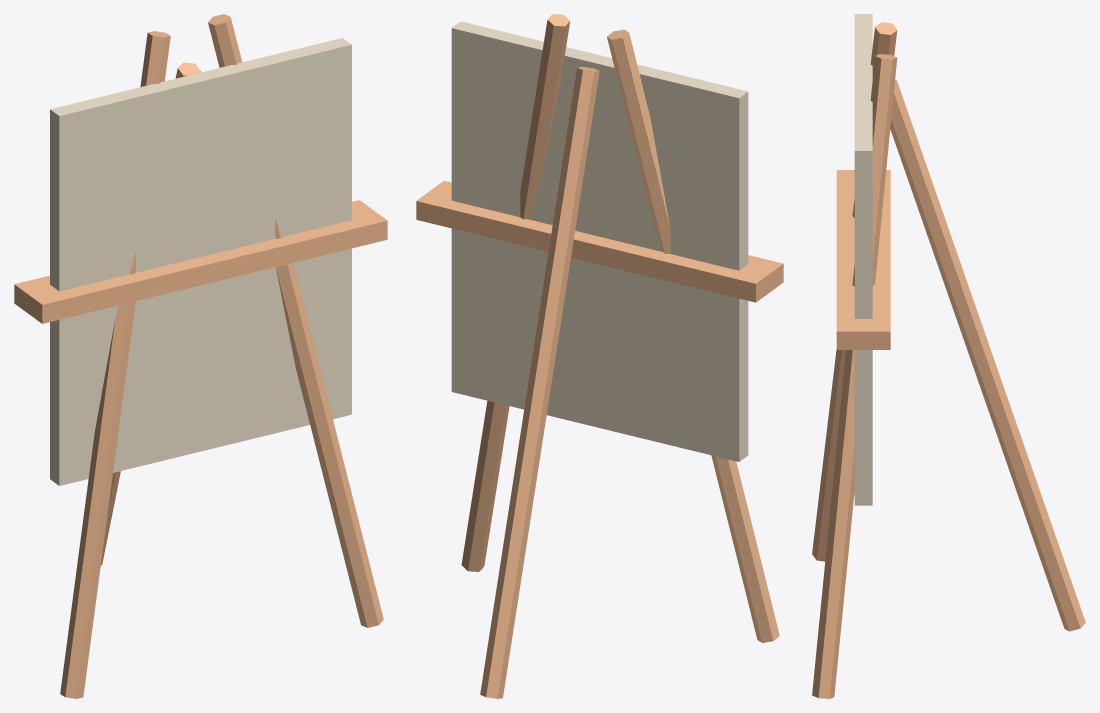
3 renders of one model, left to right at view 1: azimuth 30°, elevation 25°; view 2: azimuth 150°, elevation 25°; view 3: azimuth 270°, elevation 25°, orthographic. The views are drawn at different scales.
Parts seen in each view (by area): view 1: Canvas, Canvas rest, Side, Side.001, Rear leg; view 2: Canvas, Rear leg, Canvas rest, Side, Side.001; view 3: Rear leg, Side.001, Canvas, Canvas rest, Side.
Part boxes in pixels (left/top/right/bottom): Canvas: left=50, top=38, right=351, bottom=485; Canvas rest: left=14, top=200, right=387, bottom=323; Side: left=60, top=31, right=170, bottom=698; Side.001: left=208, top=14, right=383, bottom=627; Rear leg: left=100, top=62, right=200, bottom=565; Canvas: left=451, top=21, right=748, bottom=461; Rear leg: left=480, top=66, right=599, bottom=698; Canvas rest: left=416, top=181, right=783, bottom=302; Side: left=607, top=29, right=779, bottom=642; Side.001: left=461, top=14, right=570, bottom=571; Rear leg: left=890, top=80, right=1085, bottom=631; Side.001: left=812, top=54, right=897, bottom=698; Canvas: left=854, top=14, right=872, bottom=505; Canvas rest: left=836, top=170, right=890, bottom=349; Side: left=812, top=22, right=897, bottom=561.
Size of the model in its own units: 85 by 144 by 60.86.
